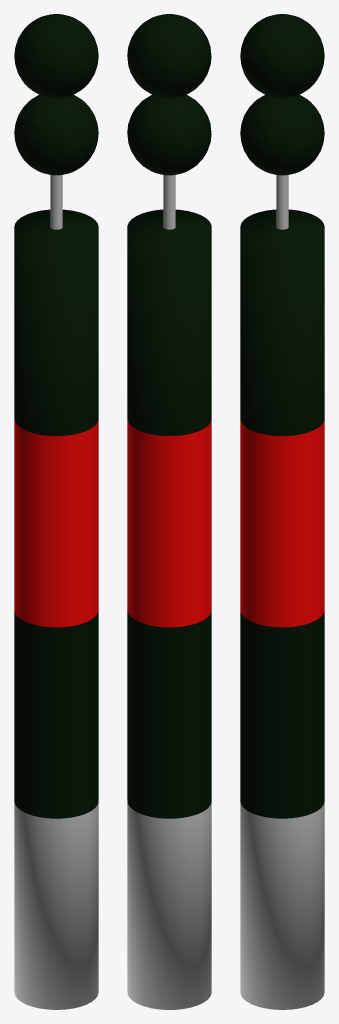
The model's file is Bcn-Danger.gltf.
3 views of the same model, side by side, from view 1: azimuth 90°, elevation 25°; view 2: azimuth 210°, elevation 25°; view 3: azimuth 270°, elevation 25° (orthographic).
Visible parts, largest first — view 1: Cylinder.029, Sphere 1.001, Sphere 2.001, Axe.010; view 2: Cylinder.029, Sphere 1.001, Sphere 2.001, Axe.010; view 3: Cylinder.029, Sphere 1.001, Sphere 2.001, Axe.010.
Boxes of the visible parts, x1=… form: Cylinder.029: x1=14, y1=209, x2=98, y2=1009; Sphere 1.001: x1=14, y1=14, x2=98, y2=98; Sphere 2.001: x1=14, y1=94, x2=98, y2=175; Axe.010: x1=50, y1=175, x2=62, y2=229; Cylinder.029: x1=127, y1=209, x2=211, y2=1009; Sphere 1.001: x1=127, y1=14, x2=211, y2=98; Sphere 2.001: x1=127, y1=94, x2=211, y2=175; Axe.010: x1=163, y1=175, x2=175, y2=229; Cylinder.029: x1=240, y1=209, x2=324, y2=1009; Sphere 1.001: x1=240, y1=14, x2=324, y2=98; Sphere 2.001: x1=240, y1=94, x2=324, y2=175; Axe.010: x1=276, y1=175, x2=288, y2=229.
Bounding box in the file's own units: 0.4008 × 5.09 × 0.4.
